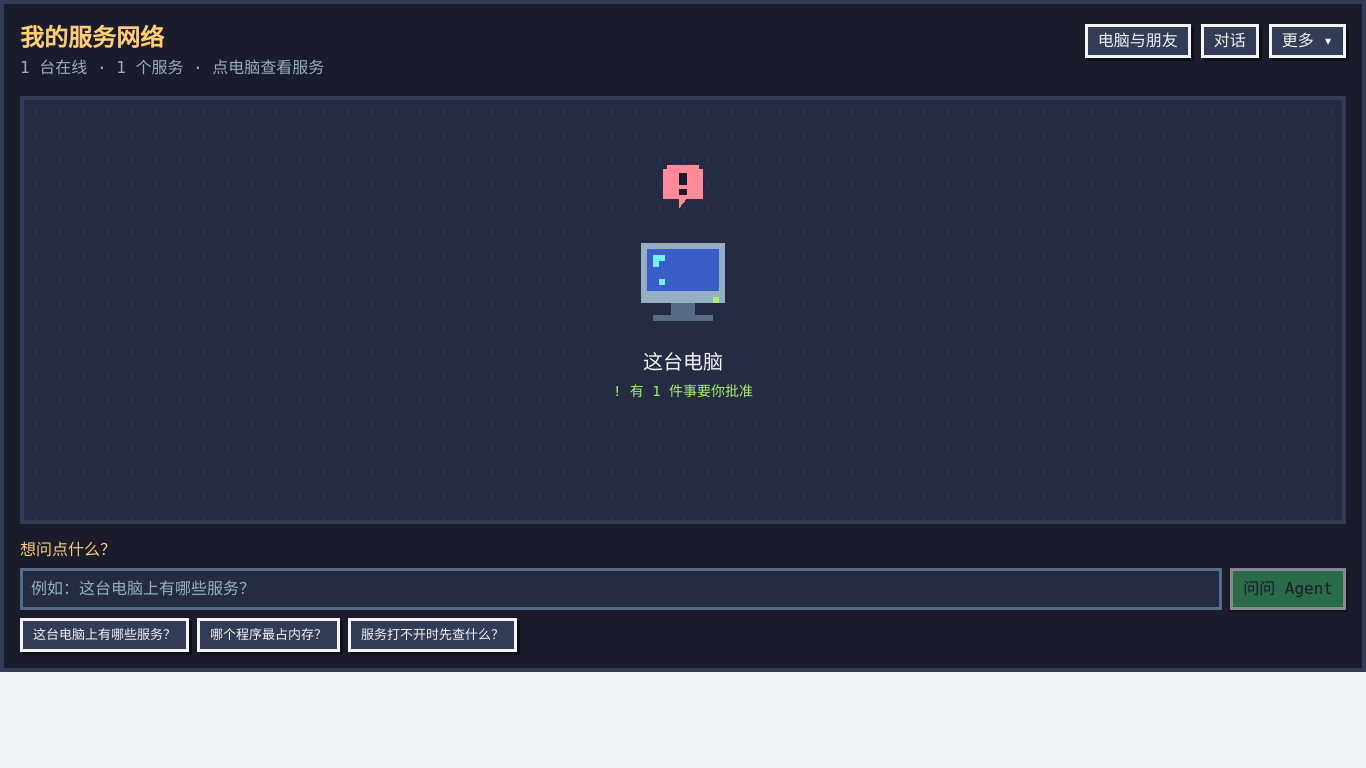
地图上的本机修复 › 聊天打开时点地图感叹号也能进入修复框
The image size is (1366, 768).
Click the button "对话" at (1230, 41), box [1201,24,1259,58]
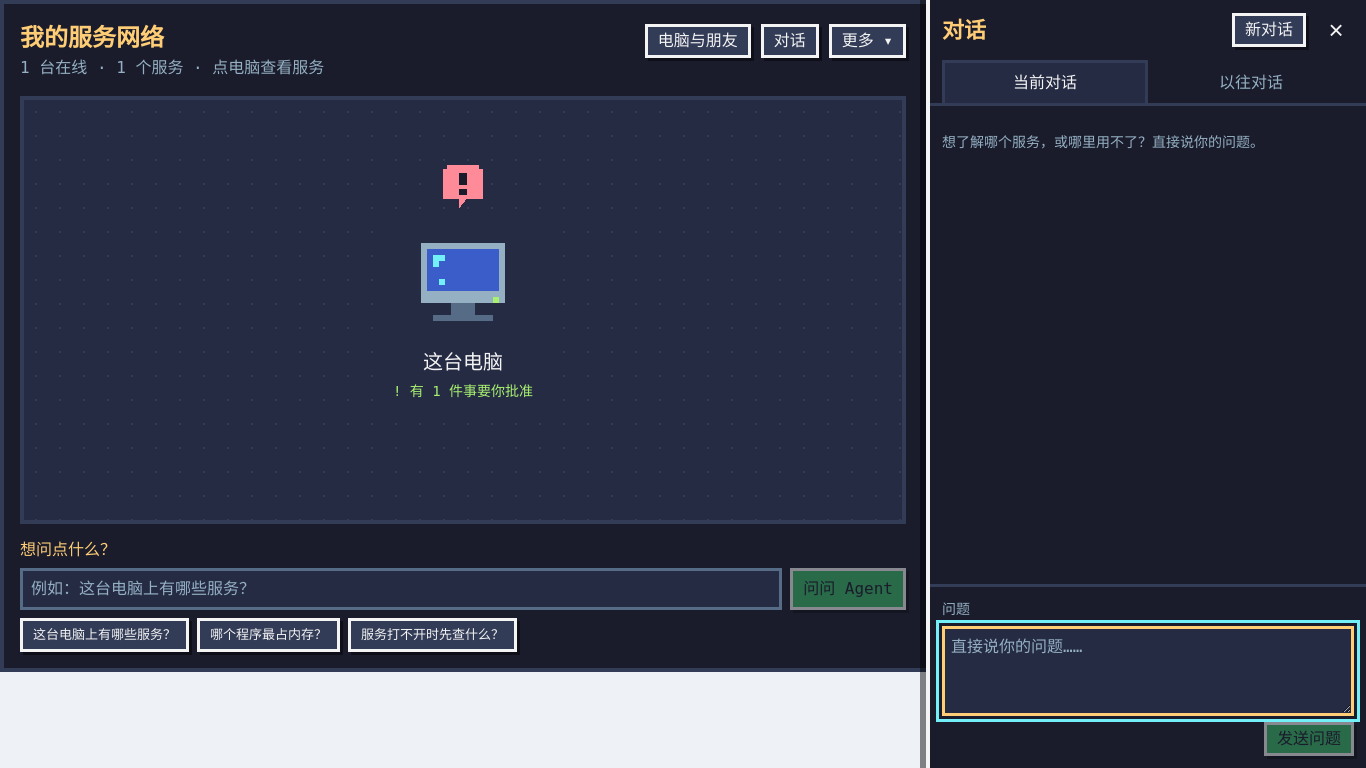
Expected: the dialog "对话 新对话 × 当前对话 以往对话 想了解哪个服务，或哪里用不了？直接说你的问题。 问题 发送问题" is shown, [926,0,1365,767]
Click the button named "这台电脑有 1 个待批准的修复" at (463, 186), box [443,164,483,208]
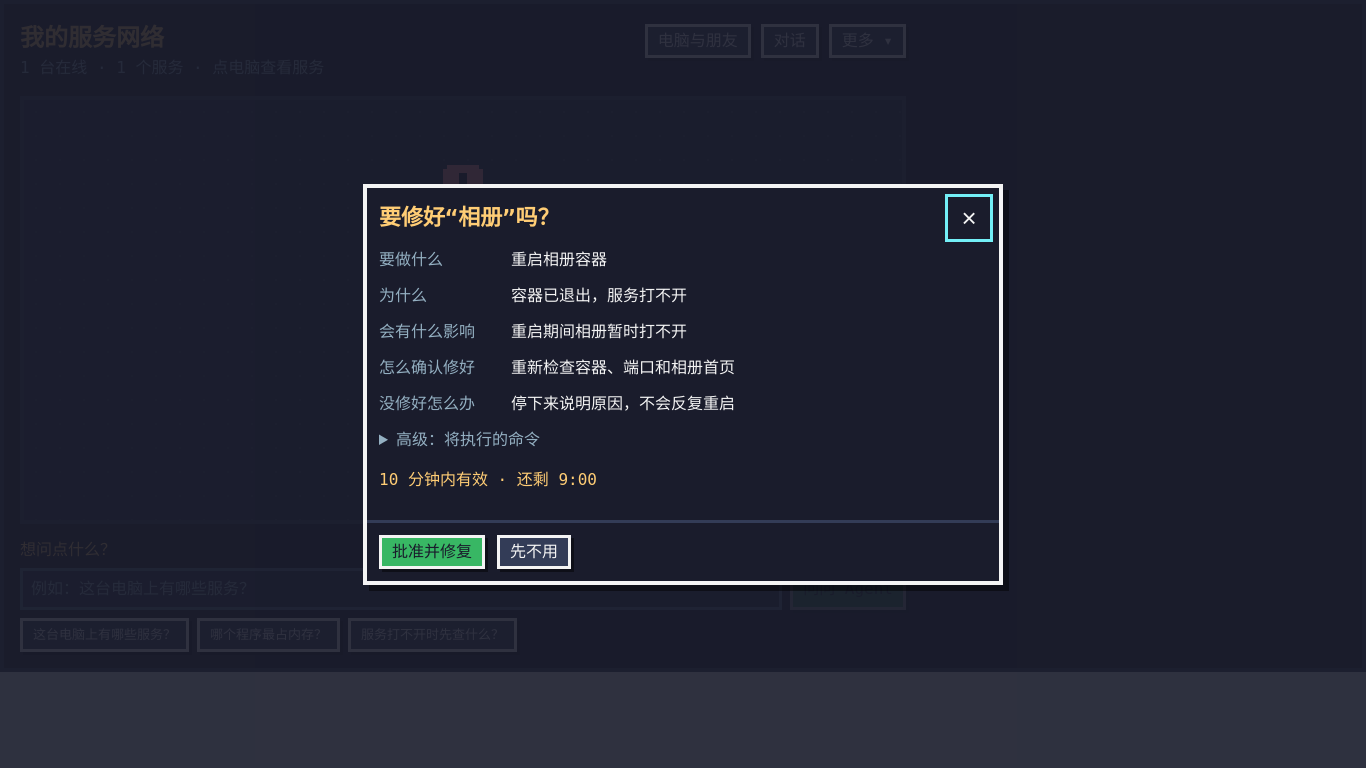
Expected: the dialog "要修好“相册”吗？" is shown, [363,184,1003,584]
